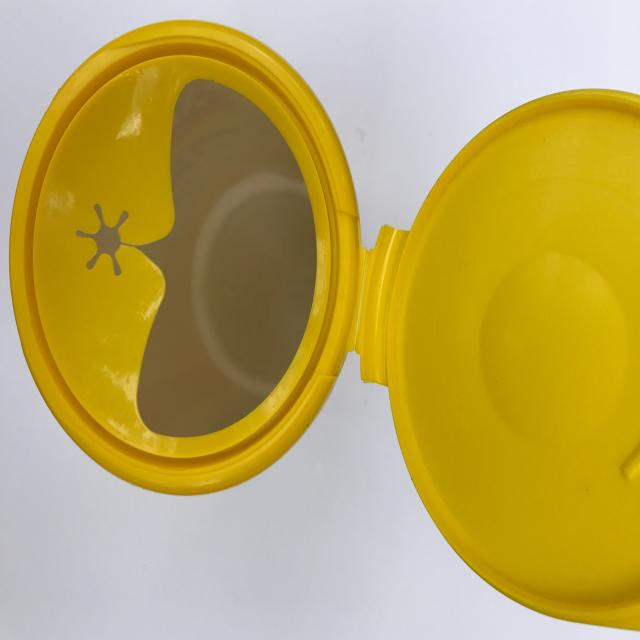plastic: (8, 17, 640, 632)
